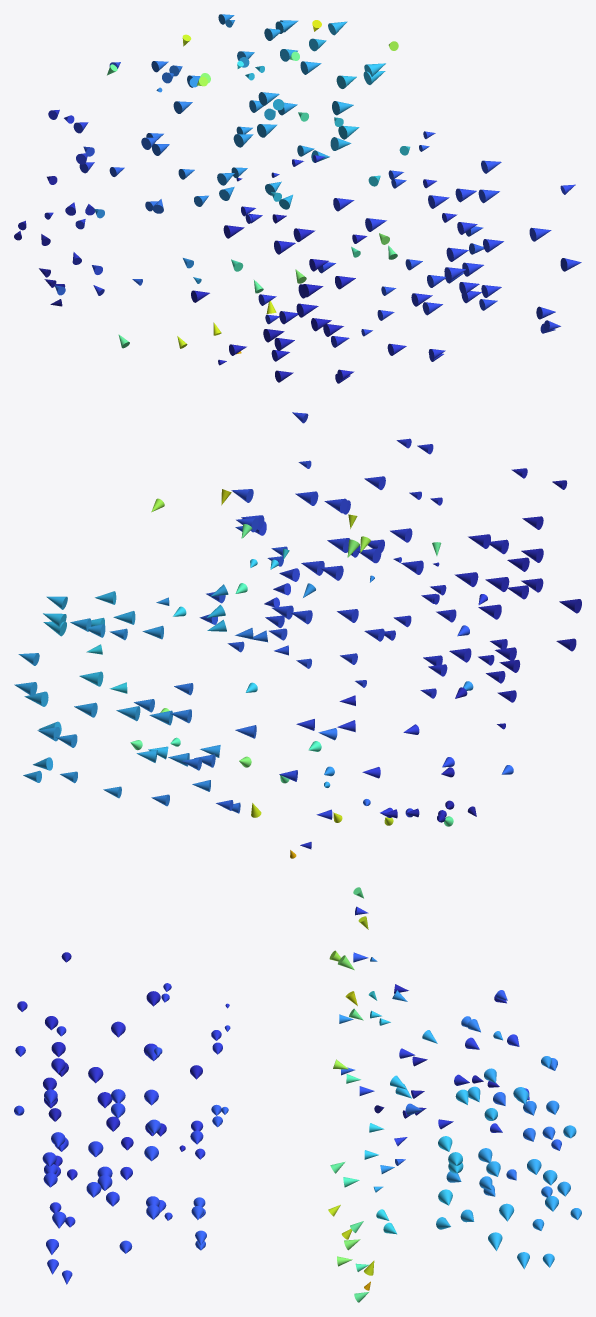
File: LineasCorrienteN2-H2O_mh2-5.58_V-0.7.glb
3 renders of one model, top to bottom at view 1: azimuth 30°, elevation 25°; view 2: azimuth 150°, elevation 25°; view 3: azimuth 270°, elevation 25°, orthographic. The views are drawn at different scales.
Size of the model in its own units: 0.000986 by 0.000809 by 0.00121.
Materials: 2 (2 with a texture image).
